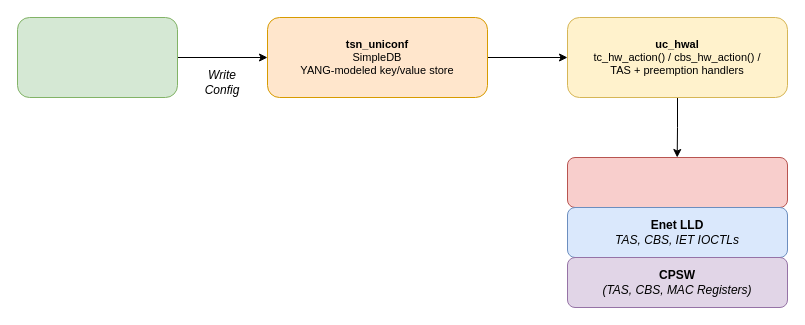
The diagram is 805 pixels wide and 325 high, and some of its shapes have lost their labels. The shapes that lost their labels are listed below. From the top down, each one's centre as x and y in pixels, then its label:
(x=97, y=57): Application YDBI_SET_ITEM - EST Config CBS Config IET Config
(x=677, y=182): tsn_combase TAS, CBS, IET Abstraction
